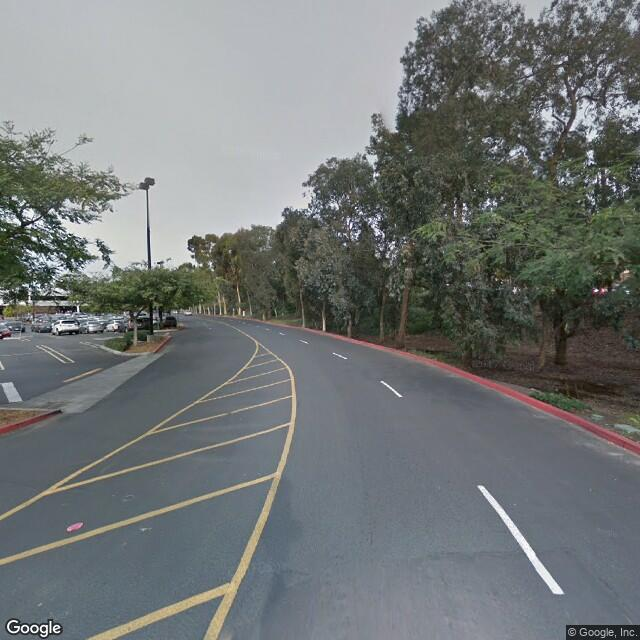litter: (65, 523, 85, 531)
